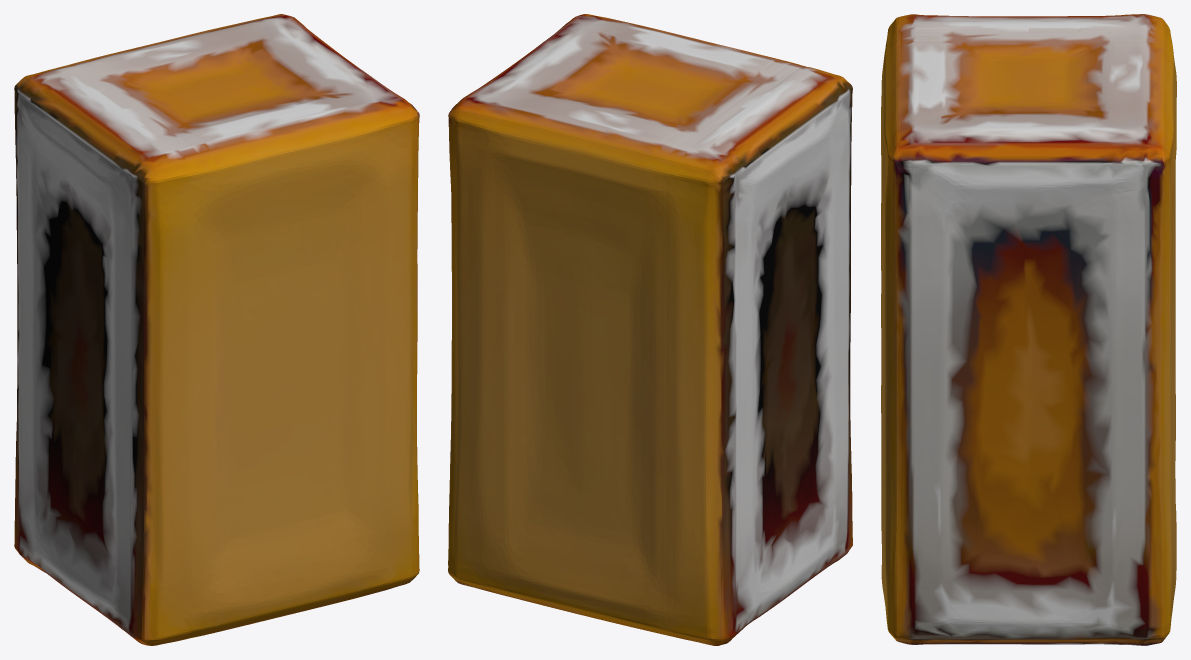
File: chocolate.glb
The picture shows the model from 3 angles, left to right: view 1: azimuth 30°, elevation 25°; view 2: azimuth 150°, elevation 25°; view 3: azimuth 270°, elevation 25°; orthographic projection. The views are drawn at different scales.
Visible parts, largest first — view 1: geometry_0; view 2: geometry_0; view 3: geometry_0.
Boxes of the visible parts, left/top/right/bottom form: geometry_0: left=14, top=14, right=419, bottom=645; geometry_0: left=448, top=14, right=852, bottom=645; geometry_0: left=881, top=14, right=1176, bottom=645.
Size of the model in its own units: 0.4062 by 0.6581 by 0.3473.
